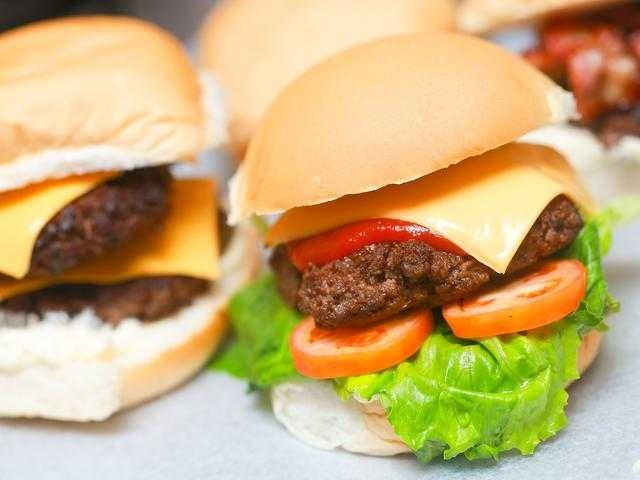hamburger: (269, 53, 598, 437), (1, 1, 198, 432), (178, 14, 633, 110)
